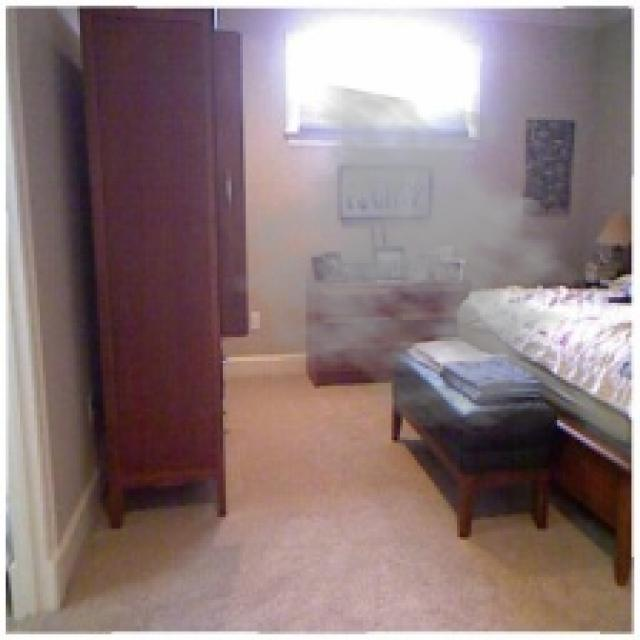Smoke: (226, 82, 603, 434)
